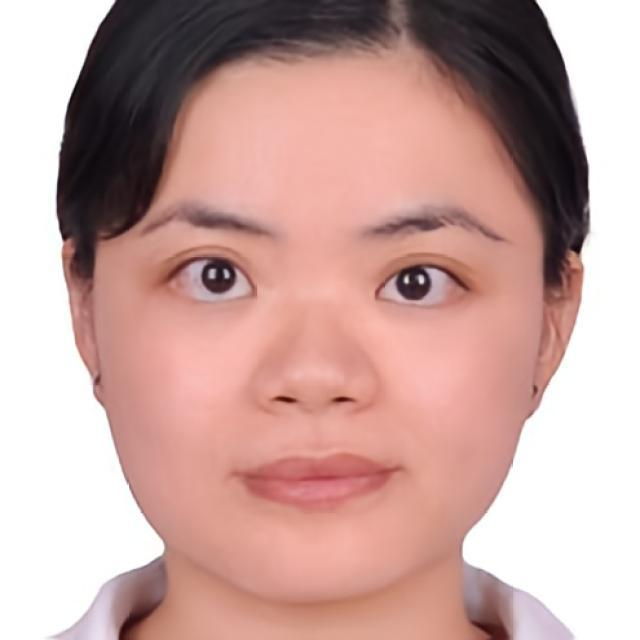neutral: (94, 46, 546, 602)
